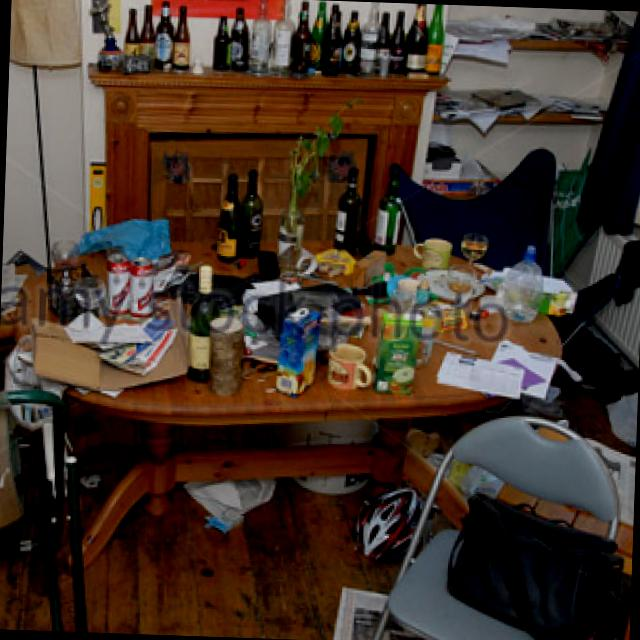mess: (32, 212, 576, 422), (0, 411, 409, 640), (0, 230, 43, 344)
